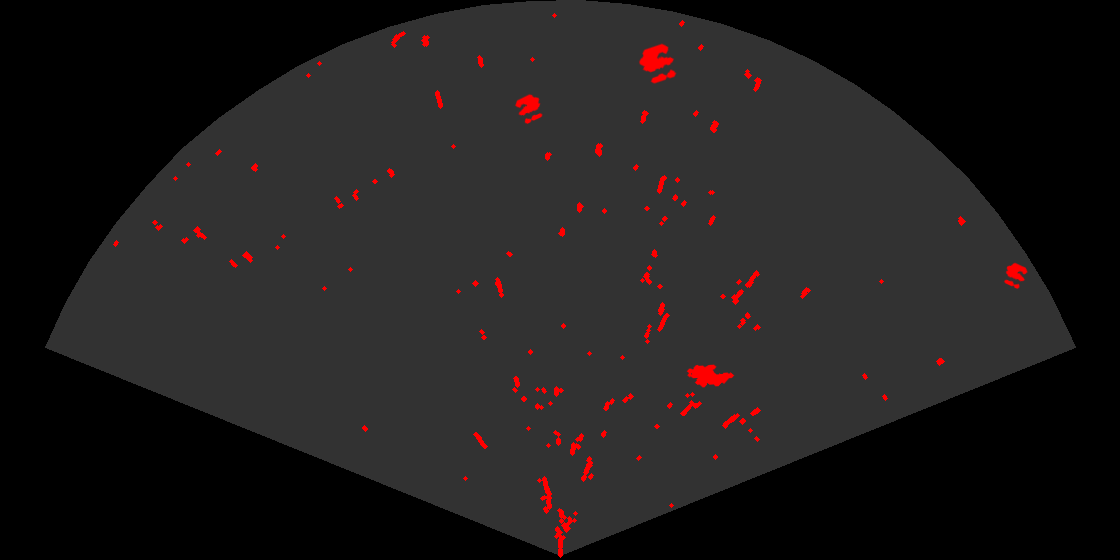AUV: (685, 363, 736, 389)
ball: (637, 42, 678, 85), (513, 92, 544, 126), (1002, 261, 1029, 290)
